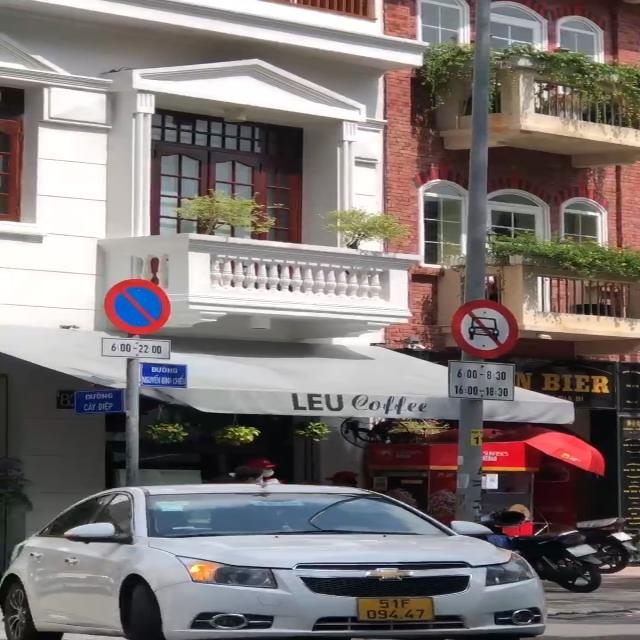Bien bao cam do xe: (104, 276, 172, 336)
Bien bao cam xe oto: (448, 298, 530, 362)
